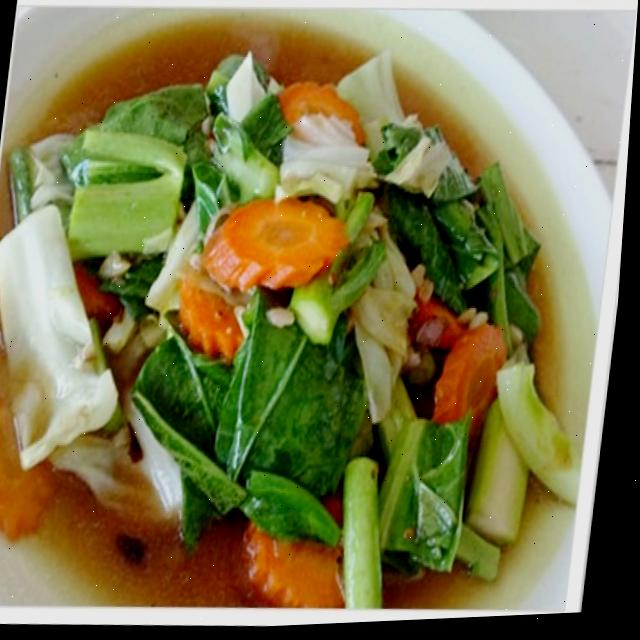蔬菜料理: (0, 1, 636, 634)
